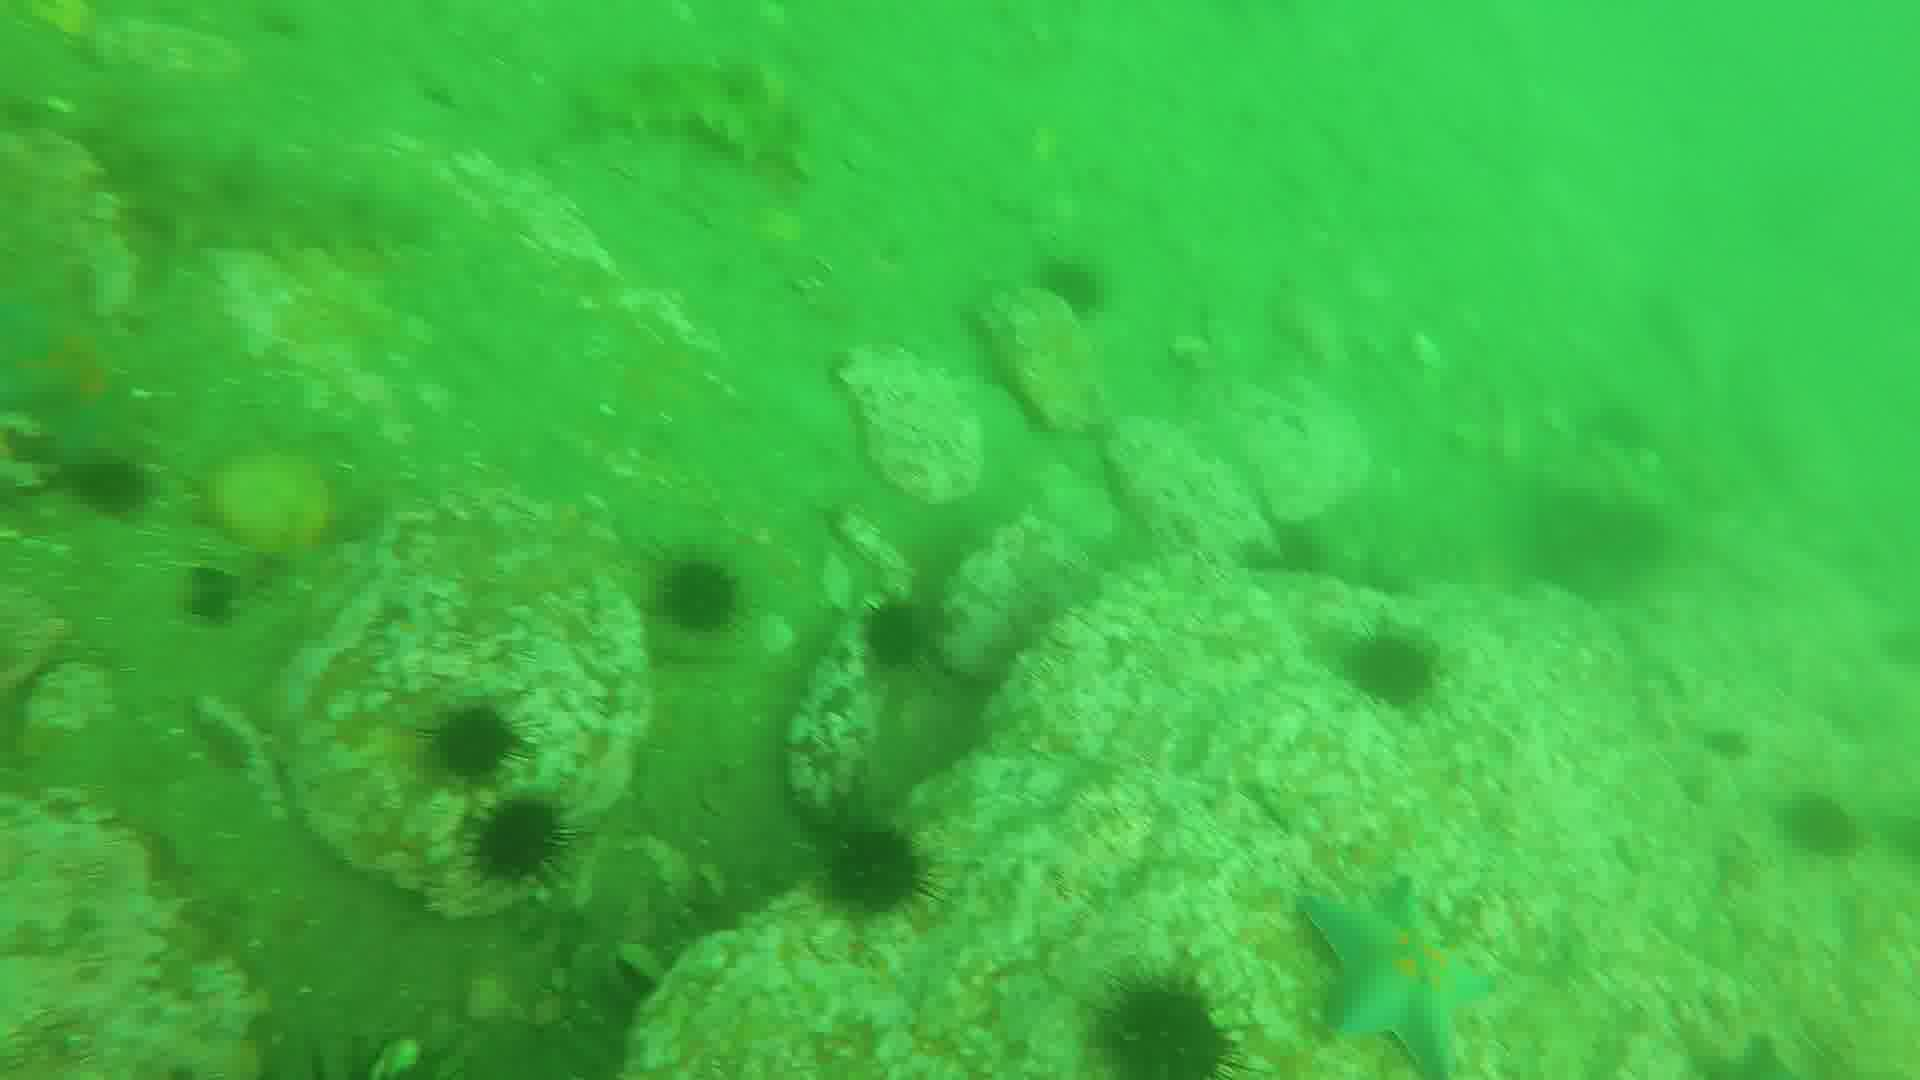echinus: (1098, 975, 1234, 1080), (822, 837, 935, 923), (469, 800, 575, 884), (429, 704, 535, 785), (1350, 624, 1439, 712), (651, 559, 746, 638), (1787, 785, 1869, 862), (75, 451, 152, 520), (872, 604, 945, 667), (1046, 251, 1110, 315)
holothurian: (133, 146, 435, 253), (595, 51, 815, 173)
starfish: (1303, 876, 1493, 1080)
